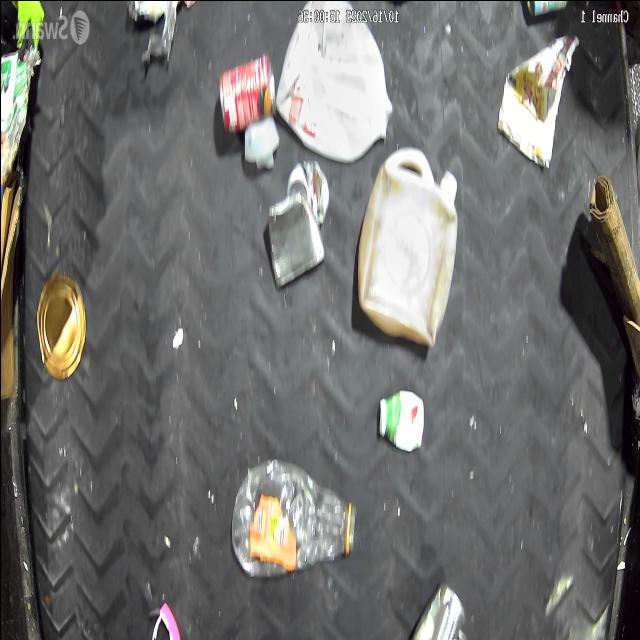can: (266, 193, 324, 287), (36, 272, 86, 378), (218, 50, 276, 132), (408, 580, 463, 640), (285, 158, 329, 226), (526, 0, 566, 17)
milk_jug: (357, 146, 457, 348), (274, 0, 392, 163)
plastic_bottle: (230, 456, 356, 578)
